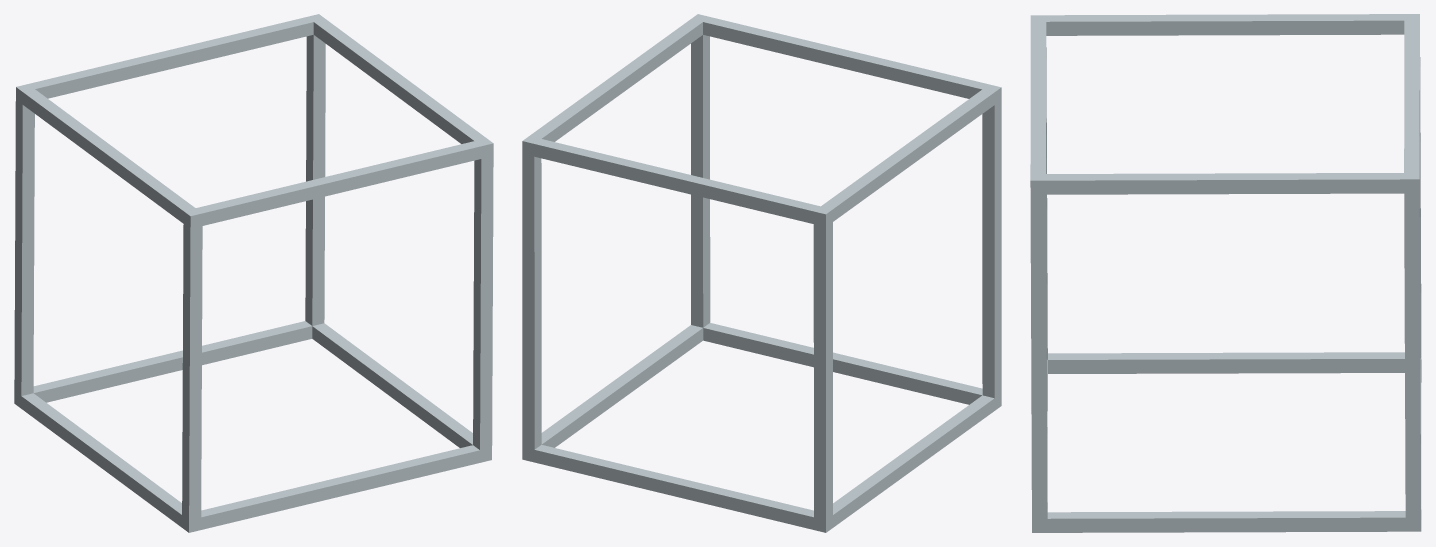
Rendered from HistoryCube.glb.
The picture shows the model from 3 angles, left to right: view 1: azimuth 30°, elevation 25°; view 2: azimuth 150°, elevation 25°; view 3: azimuth 270°, elevation 25°; orthographic projection. The views are drawn at different scales.
Visible parts, largest first — view 1: Cube; view 2: Cube; view 3: Cube.
Boxes of the visible parts, left/top/right/bottom form: Cube: left=14, top=14, right=493, bottom=532; Cube: left=522, top=14, right=1001, bottom=532; Cube: left=1030, top=14, right=1421, bottom=532.
Bounding box in the file's own units: 2.14 × 2.14 × 2.14.
Materials: 1 (1 with a texture image).
